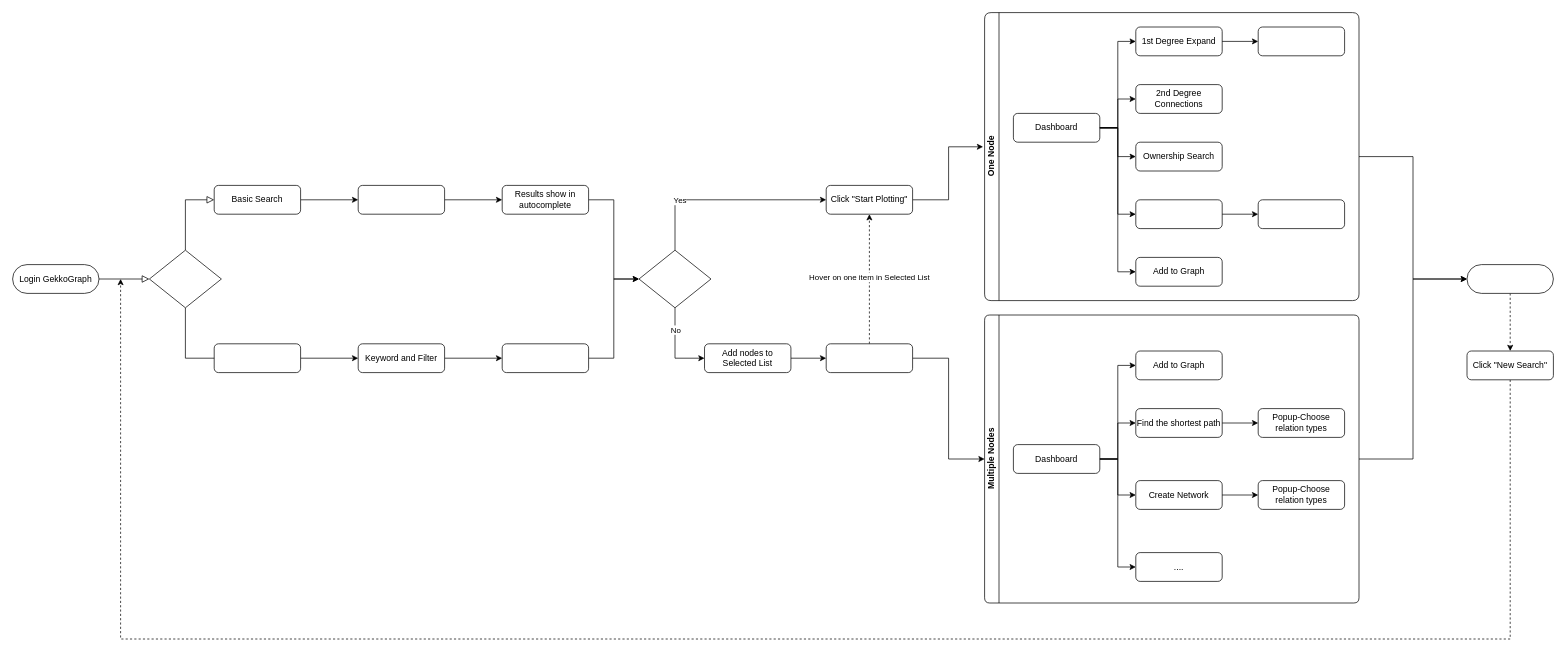
The diagram is 1566 pixels wide and 657 high, and some of its shapes have lost their labels. The shapes that lost their labels are listed below. From the top down, each one's centre as x and y in pixels, then its label:
point (1301, 41): Popup-Select Neighbors
point (401, 199): Enter Keyword
point (1178, 214): Indirect Risk Search
point (1301, 214): Search Target Nodes
point (185, 278): Choose a search method
point (674, 278): Plot graph from ONE node?
point (1509, 278): Plot on Graph
point (257, 358): Advanced Search
point (545, 358): Result Table
point (869, 358): Click "Plotting Nodes"
